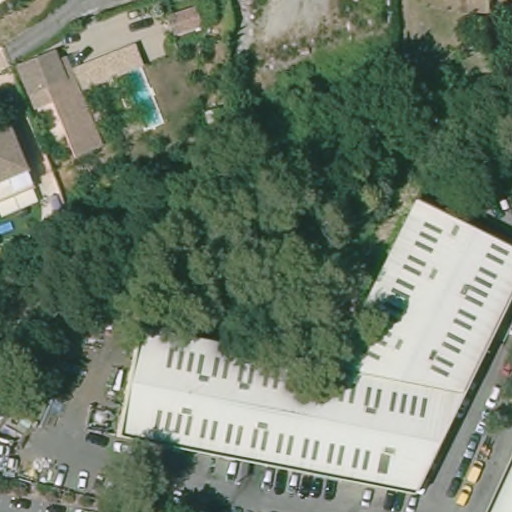pool: (103, 65, 175, 134)
